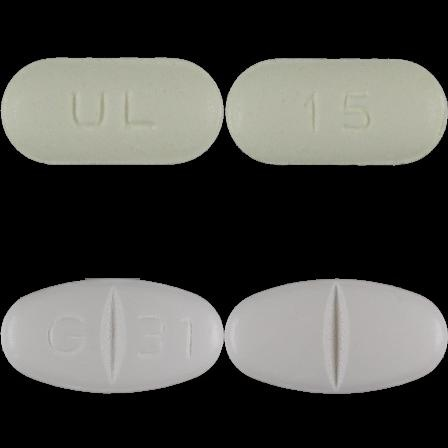70786-0125: (0, 0, 224, 224)
